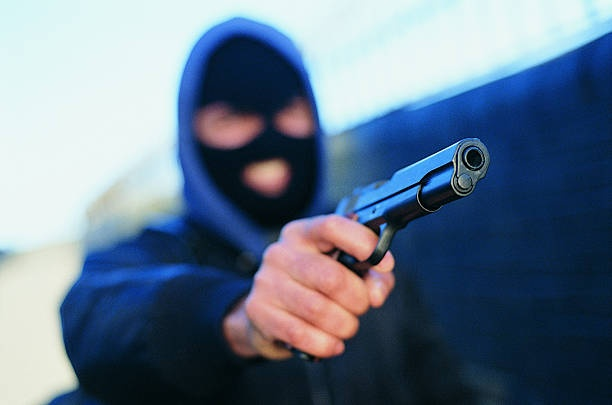gun: (273, 134, 492, 351)
